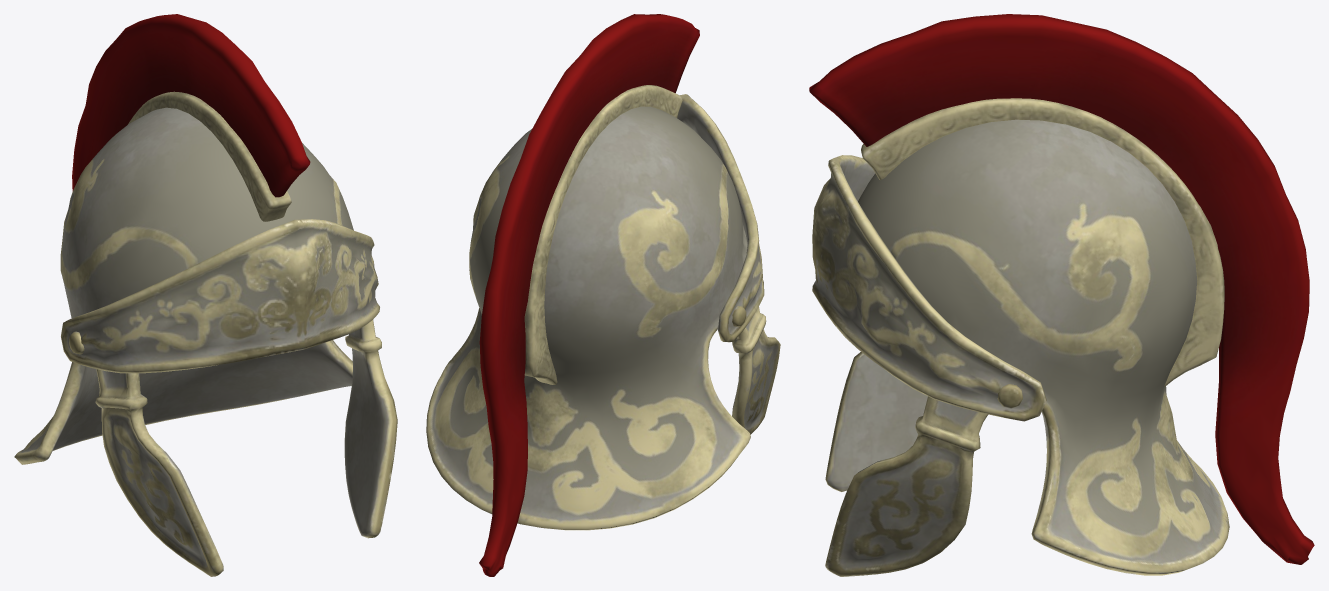
File: warrior_helmet.glb
3 views of the same model, side by side, from view 1: azimuth 30°, elevation 25°; view 2: azimuth 150°, elevation 25°; view 3: azimuth 270°, elevation 25° (orthographic). The views are drawn at different scales.
Parts seen in each view (by area): view 1: Casque_low, Visiere_low, Crin_low, Barre_low; view 2: Casque_low, Crin_low, Barre_low, Visiere_low; view 3: Casque_low, Crin_low, Visiere_low, Barre_low.
Boxes of the visible parts, x1,y1,x2,y2 form: Casque_low: [14, 107, 397, 576]; Visiere_low: [61, 219, 379, 373]; Crin_low: [72, 14, 310, 197]; Barre_low: [128, 91, 291, 221]; Casque_low: [426, 106, 780, 530]; Crin_low: [479, 14, 699, 576]; Barre_low: [524, 85, 682, 384]; Visiere_low: [469, 94, 764, 342]; Casque_low: [825, 119, 1229, 576]; Crin_low: [809, 14, 1314, 564]; Visiere_low: [812, 155, 1046, 421]; Barre_low: [861, 98, 1224, 386].
Bounding box in the file's own units: 1.39 × 2 × 1.68.
Materials: 1 (1 with a texture image).
